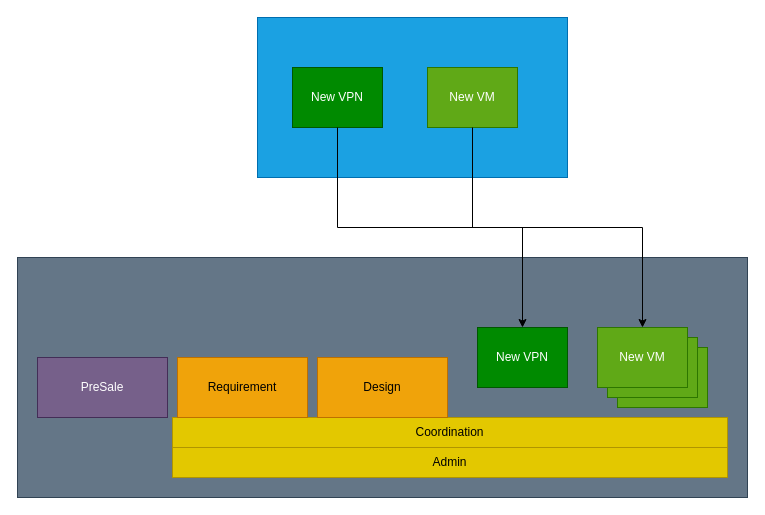
Some shapes in this 765 by 515 pixel diagram are drawn without their labels. The box of each missing label's shape, as (x1, y1, x2, y2) in pixels:
NSSR: (16, 256, 748, 498)
Service Catalog: (256, 16, 568, 178)
